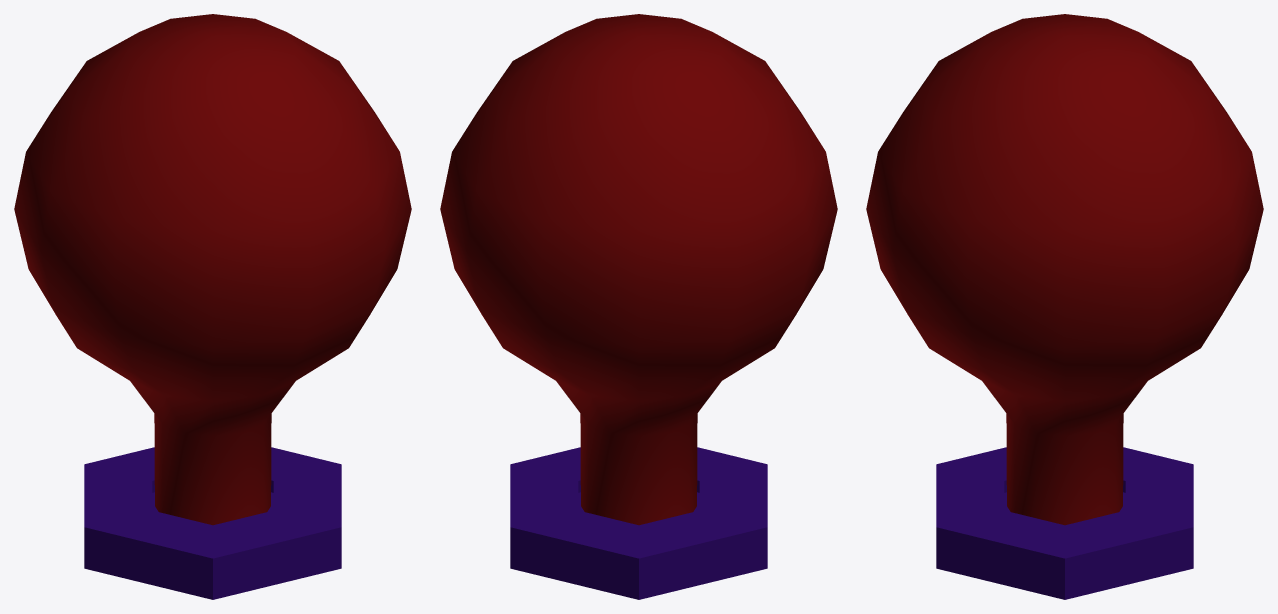
File: lighthouseBulb.fbx
3 views of the same model, side by side, from view 1: azimuth 30°, elevation 25°; view 2: azimuth 150°, elevation 25°; view 3: azimuth 270°, elevation 25° (orthographic).
Visible parts, largest first — view 1: bulb, pied; view 2: bulb, pied; view 3: bulb, pied.
Boxes of the visible parts, <box> form: bulb: <box>14,14,411,525</box>; pied: <box>84,447,341,599</box>; bulb: <box>440,14,837,525</box>; pied: <box>510,447,767,599</box>; bulb: <box>866,14,1263,525</box>; pied: <box>936,447,1193,599</box>.
Bounding box in the file's own units: 558 × 776 × 558.
